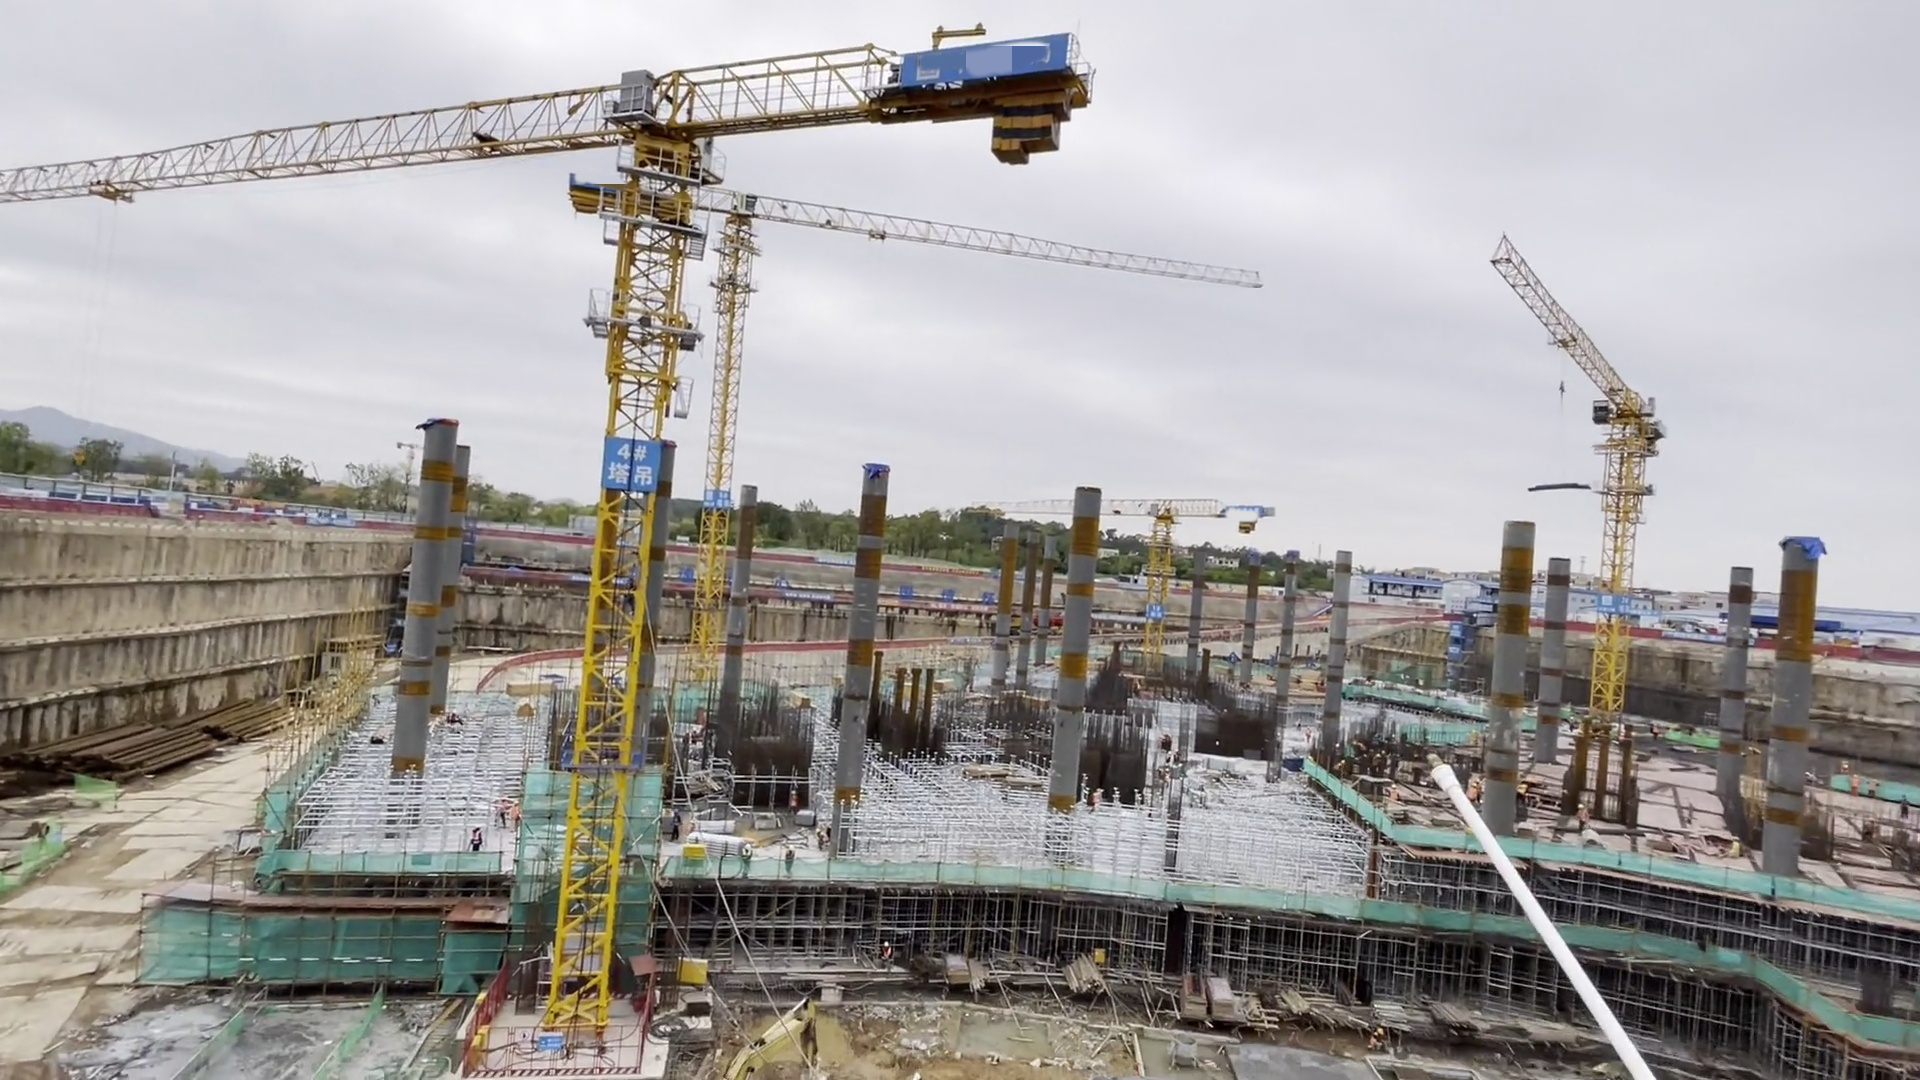person: (1465, 780, 1484, 808), (874, 942, 893, 963), (1577, 803, 1588, 830)
wood: (1279, 992, 1421, 1028), (1063, 963, 1100, 990)
